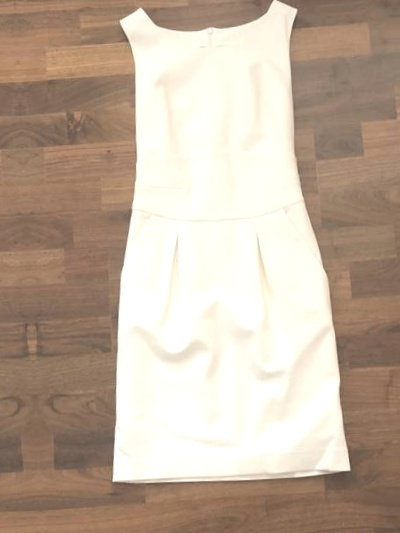Dress: (71, 0, 366, 504)
